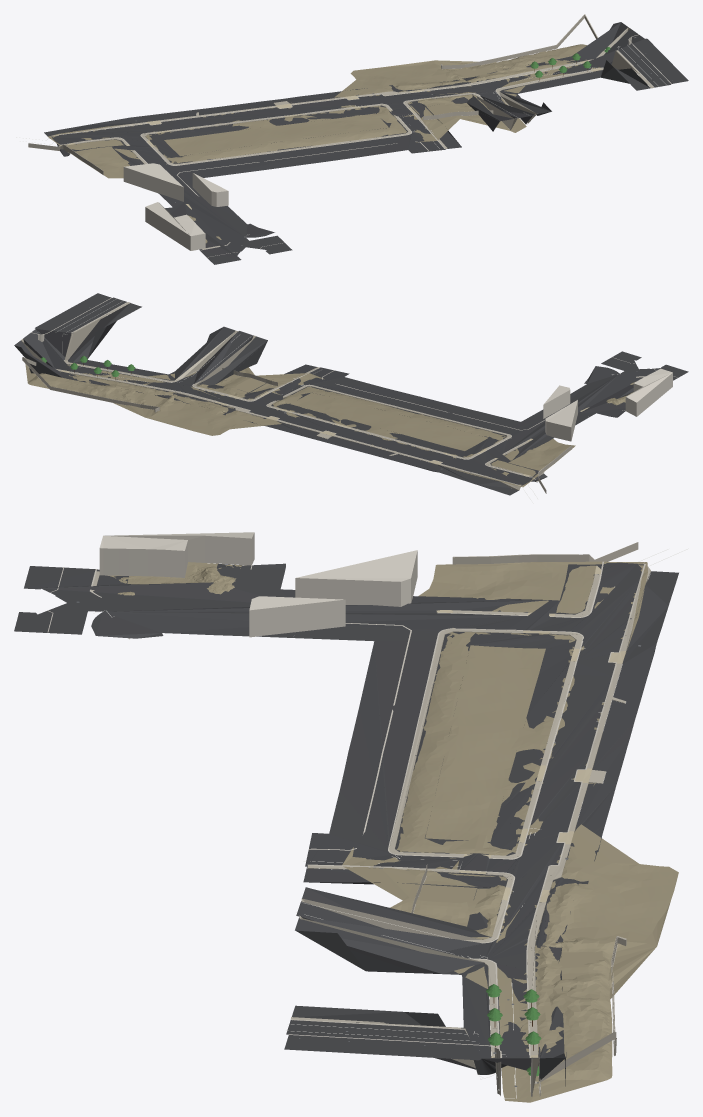
Rendered from entorno_topo.glb.
3 views of the same model, one above another, from view 1: azimuth 30°, elevation 25°; view 2: azimuth 150°, elevation 25°; view 3: azimuth 270°, elevation 25° (orthographic). The views are drawn at different scales.
Parts seen in each view (by area): view 1: asfalto, terreno, acera, edificacion, bordillo, muro, podotactil; view 2: asfalto, terreno, acera, edificacion, bordillo, muro, podotactil; view 3: asfalto, terreno, edificacion, acera, bordillo, muro, podotactil, copa.
Part boxes in pixels (box(x1,y1,x2,y2)): asfalto: box(44, 22, 688, 264); terreno: box(48, 44, 600, 243); acera: box(49, 27, 653, 249); edificacion: box(123, 163, 228, 250); bordillo: box(51, 34, 671, 257); muro: box(28, 14, 597, 175); podotactil: box(59, 60, 601, 209); asfalto: box(14, 293, 688, 495); terreno: box(25, 364, 635, 487); acera: box(21, 302, 644, 490); edificacion: box(543, 368, 672, 441); bordillo: box(31, 297, 677, 485); muro: box(22, 357, 572, 493); podotactil: box(60, 363, 589, 481); asfalto: box(14, 562, 678, 1086); terreno: box(108, 561, 678, 1102); edificacion: box(99, 532, 417, 637); acera: box(91, 564, 650, 1095); bordillo: box(47, 561, 645, 1096); muro: box(411, 542, 638, 1096); podotactil: box(436, 564, 625, 1057); copa: box(486, 984, 541, 1076).
Size of the model in its own units: 284 by 20.27 by 158.
